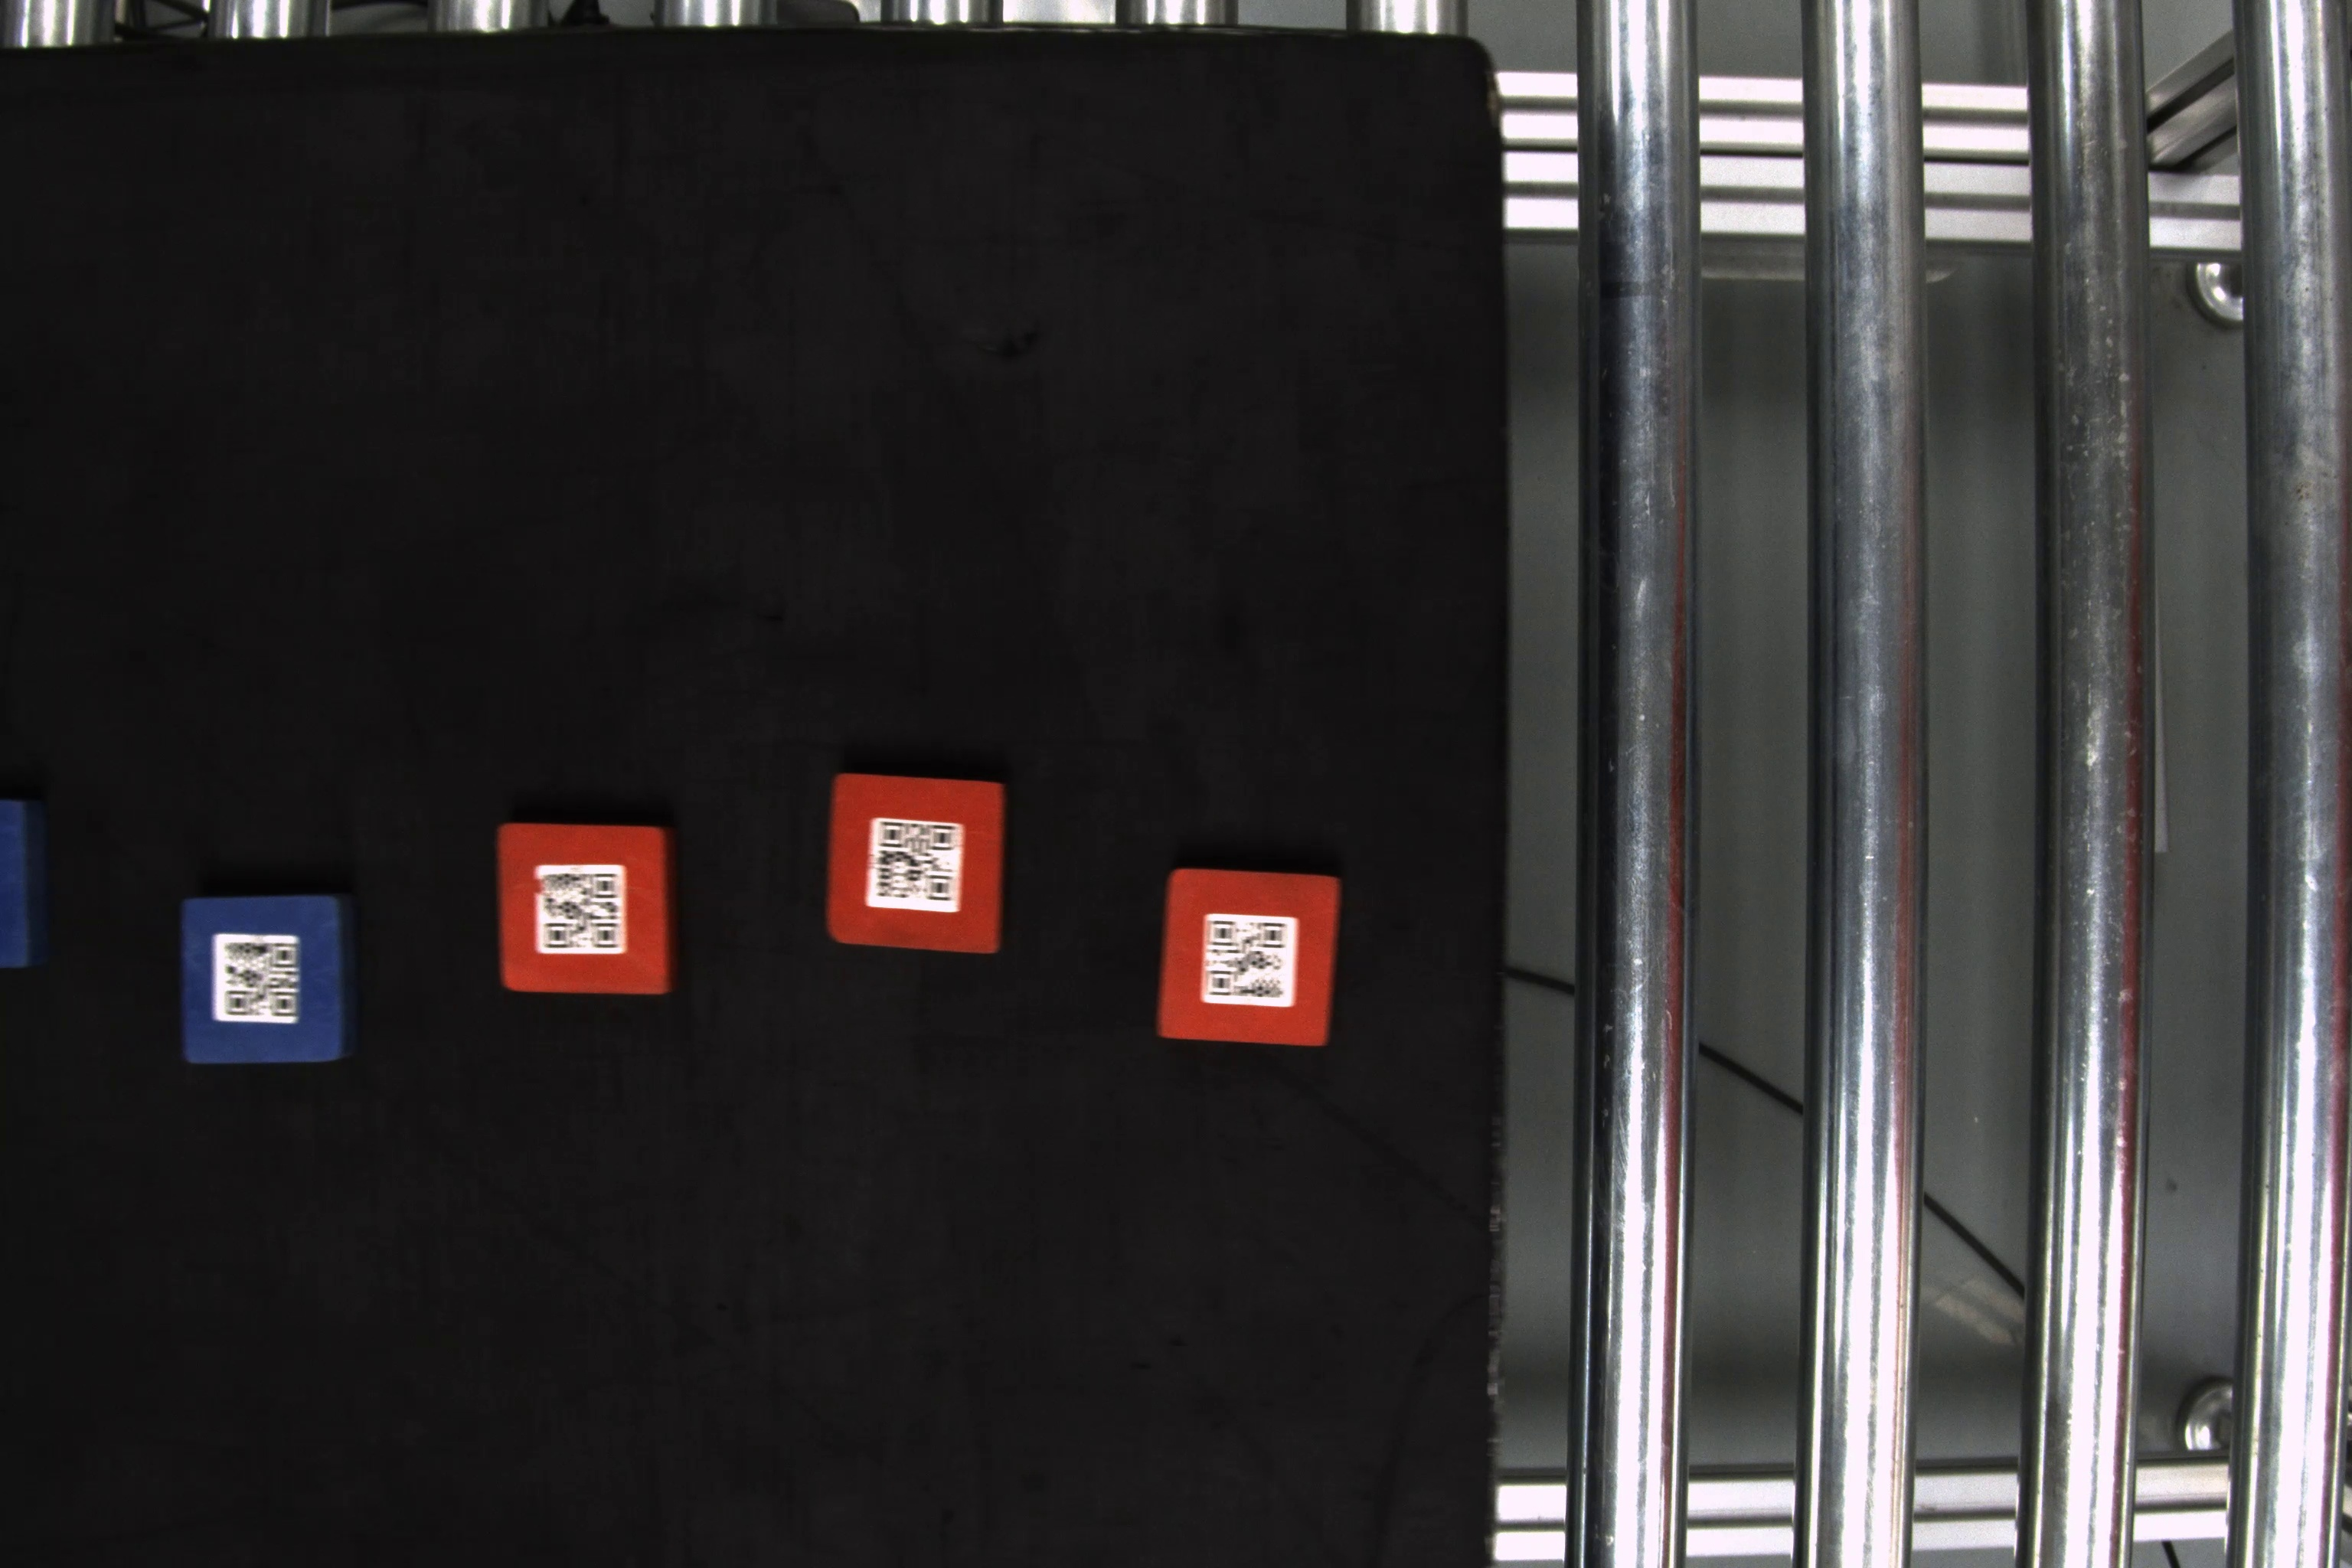wood: (490, 815, 684, 1006), (824, 772, 1011, 964), (1157, 861, 1346, 1048), (171, 889, 360, 1074)
